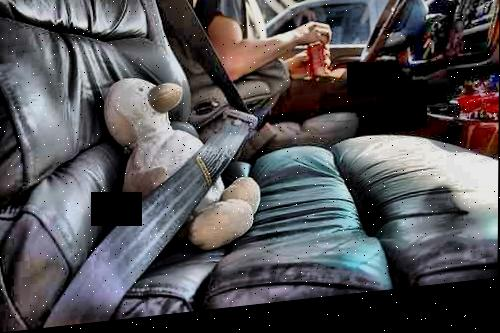seatbelt: (125, 0, 266, 226)
